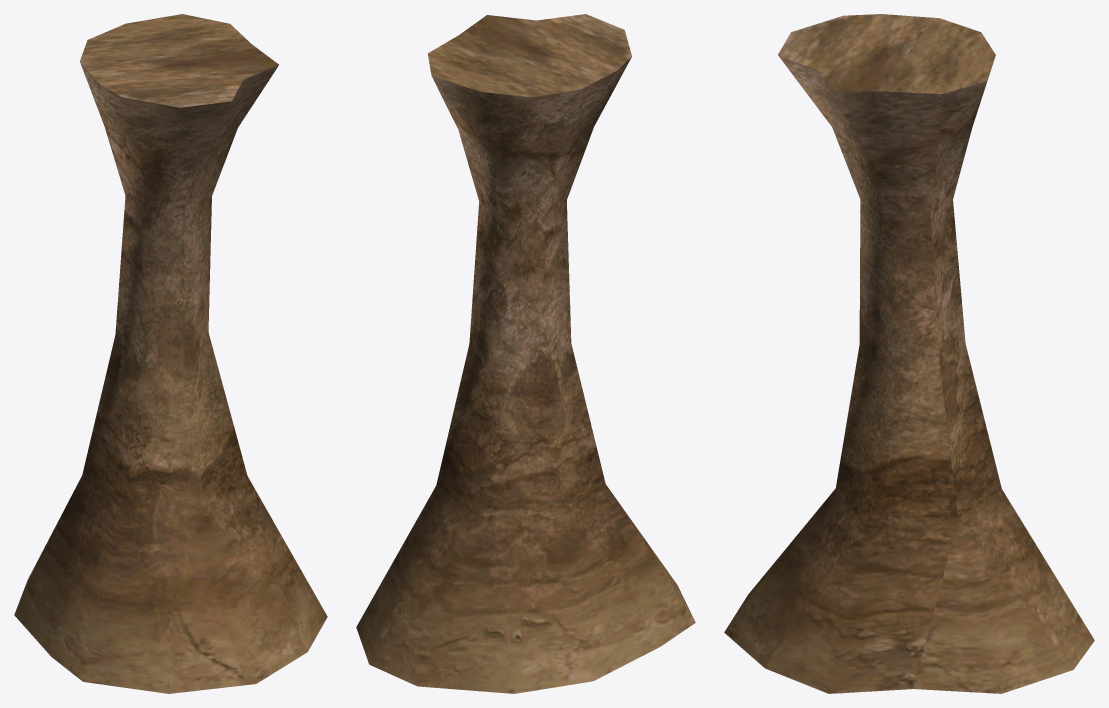
Rendered from dcfx_qmzz_02.FBX.
3 views of the same model, side by side, from view 1: azimuth 30°, elevation 25°; view 2: azimuth 150°, elevation 25°; view 3: azimuth 270°, elevation 25° (orthographic). The views are drawn at different scales.
Visible parts, largest first — view 1: dcfx_qmzz_02; view 2: dcfx_qmzz_02; view 3: dcfx_qmzz_02.
Boxes of the visible parts, x1,y1,x2,y2 form: dcfx_qmzz_02: (14, 14, 327, 693); dcfx_qmzz_02: (356, 14, 695, 693); dcfx_qmzz_02: (724, 14, 1094, 693).
Size of the model in its own units: 260 by 560 by 325.
